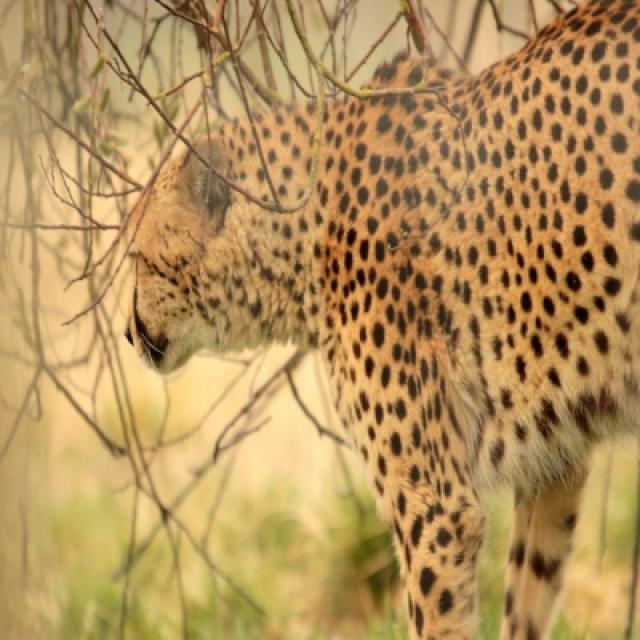Cheetah: (128, 0, 638, 638)
